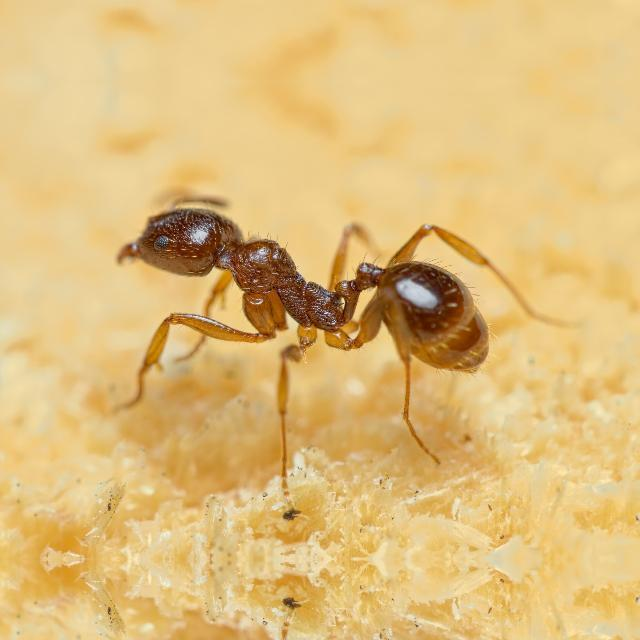Apheanogaster: (104, 181, 512, 407)
